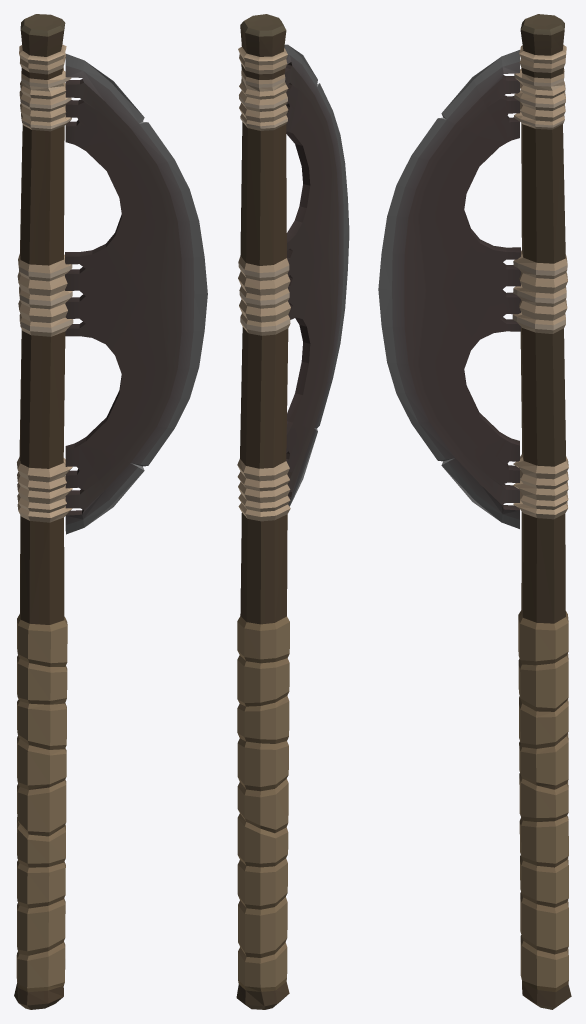
Rendered from bluntLightEpsilonAxe.glb.
3 renders of one model, left to right at view 1: azimuth 90°, elevation 25°; view 2: azimuth 150°, elevation 25°; view 3: azimuth 270°, elevation 25°, orthographic.
Visible parts, largest first — view 1: bluntLightEpsilonAxe; view 2: bluntLightEpsilonAxe; view 3: bluntLightEpsilonAxe.
Boxes of the visible parts, x1,y1,x2,y2 form: bluntLightEpsilonAxe: [14, 14, 207, 1009]; bluntLightEpsilonAxe: [236, 14, 349, 1009]; bluntLightEpsilonAxe: [378, 14, 571, 1009].
Size of the model in its own units: 0.0419 by 0.8875 by 0.1583.
